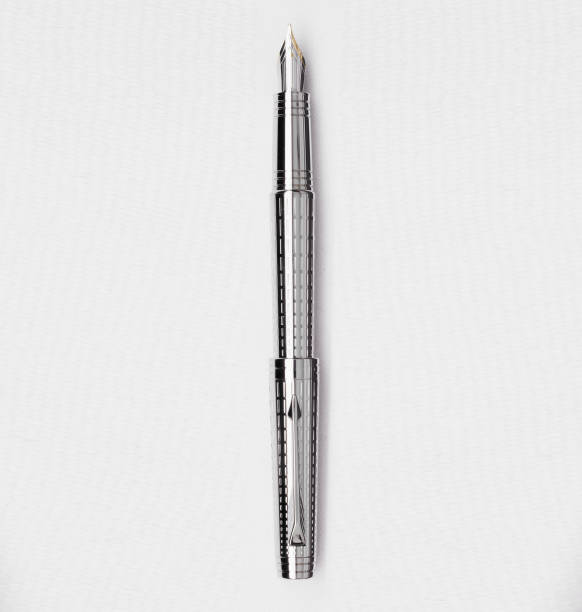pen: (258, 12, 339, 593)
